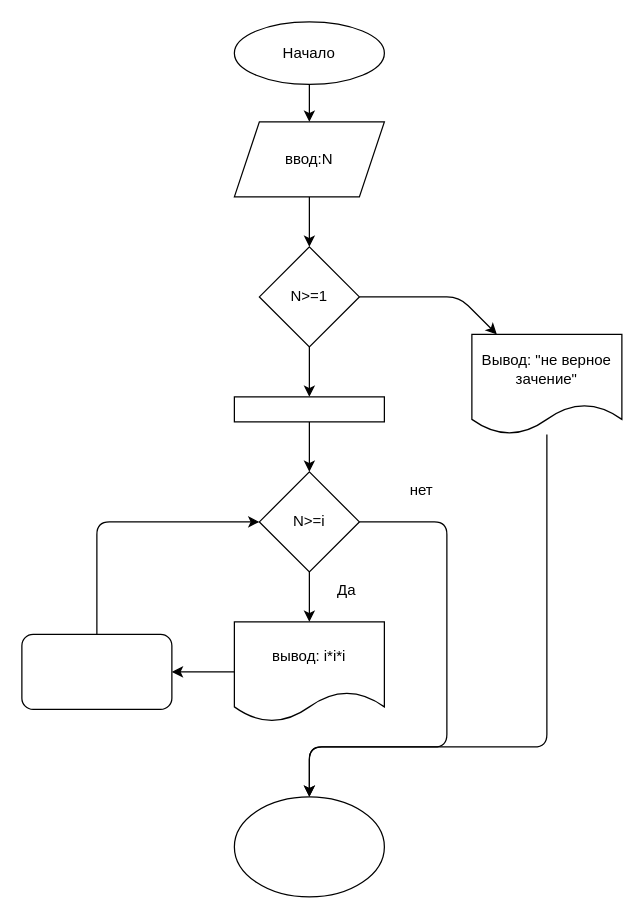
Some shapes in this 644 by 919 pixel diagram are drawn without their labels. Each missing label, with the centre of its shape:
"i++;" goes at pixel 96 671.
"i=1;" goes at pixel 308 409.
"конец" goes at pixel 308 846.
